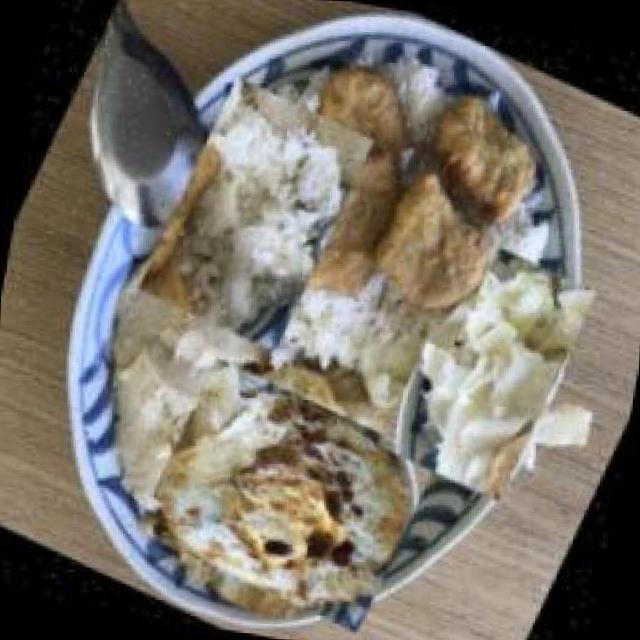chicken_nuggets: (237, 29, 560, 360)
chinese_cabbage: (371, 222, 606, 512)
fried_eggs: (128, 336, 441, 640)
rice: (128, 64, 381, 366)
